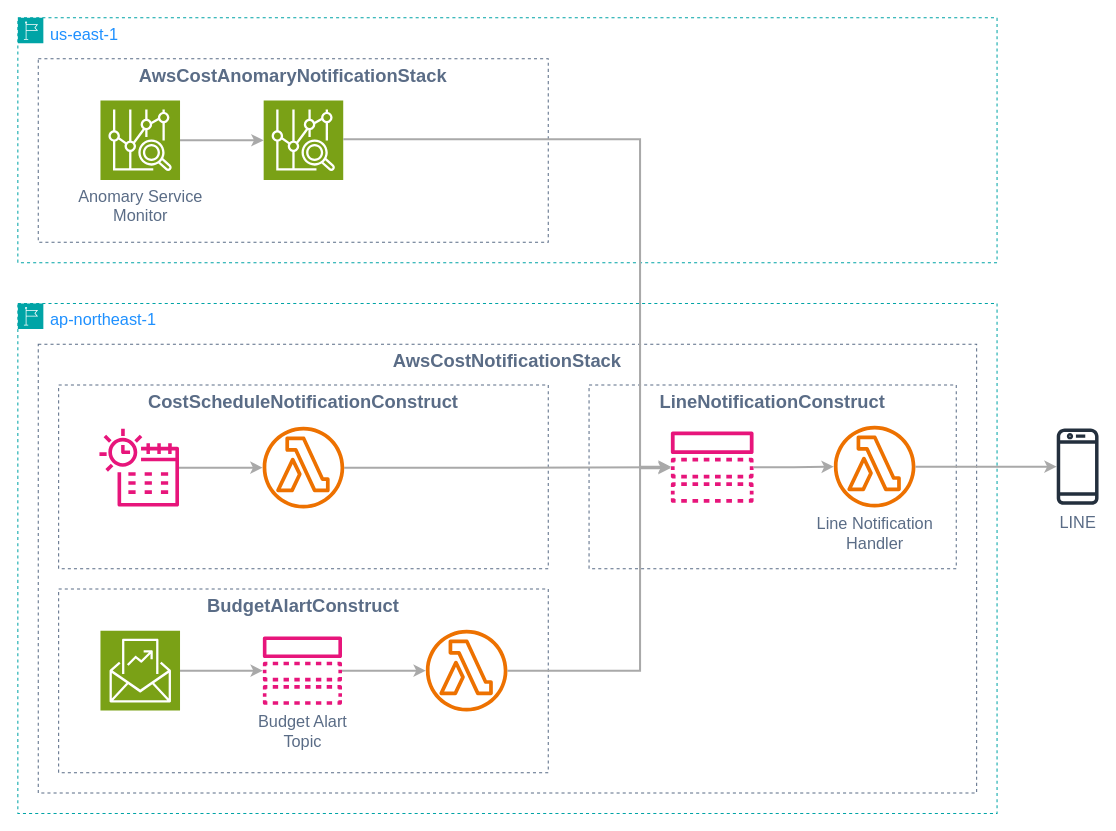
Some shapes in this 1116 by 831 pixel diagram are drawn without their labels. Here are the shapes that lost their labels. From the top down, the centre of each, then its label:
At (303,139): "Service Anomary Subscription".
At (138,467): "Cost Notification Schedule".
At (303,467): "Cost Notification Handler".
At (711,466): "Notification Topic".
At (139,670): "Monthly Cost Budget".
At (466,670): "Budget Alart Handler".
